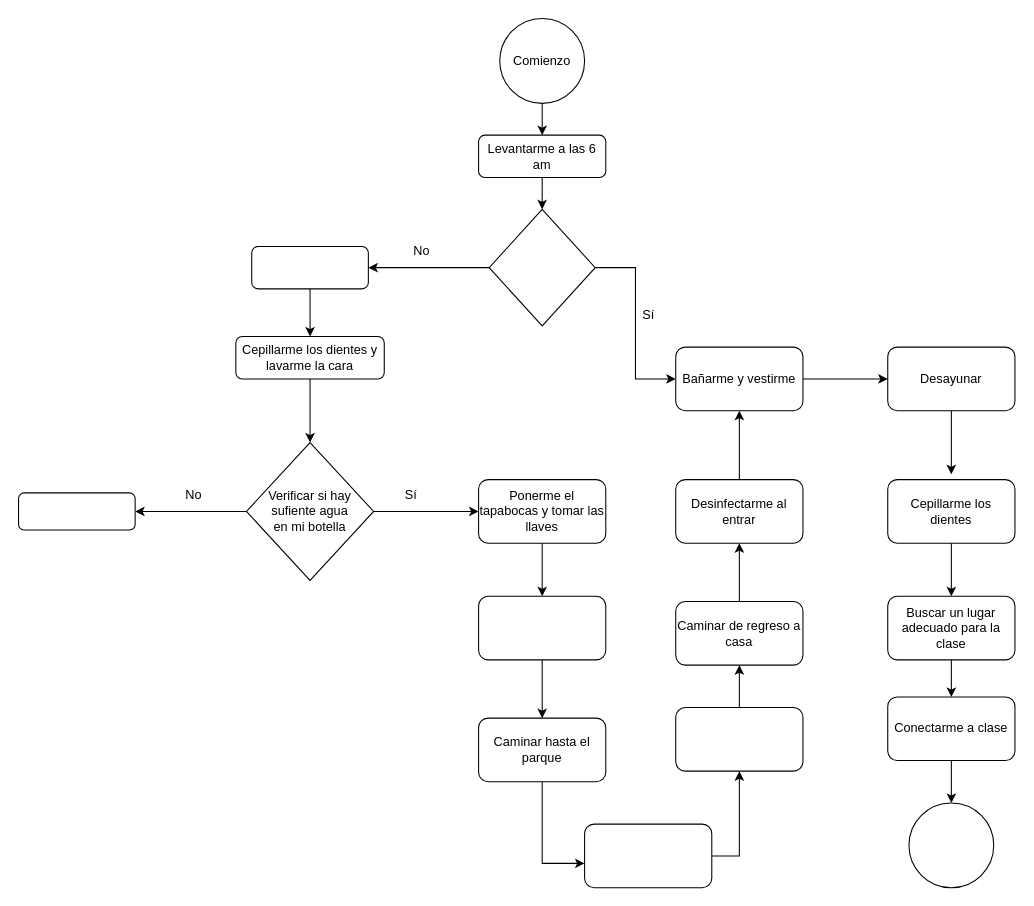
This 1034x906 diagram has some shape labels left out. The centre of each missing label's shape, as x and y in pixels:
Alistarme para correr: point (309, 267)
Empezar el recorrido: point (648, 855)
Estirar y tomar agua: point (739, 738)
Fin: point (951, 845)
Rellenar la botella: point (76, 511)
Revisar si esta lloviendo: point (541, 267)
Salir de casa: point (542, 627)
